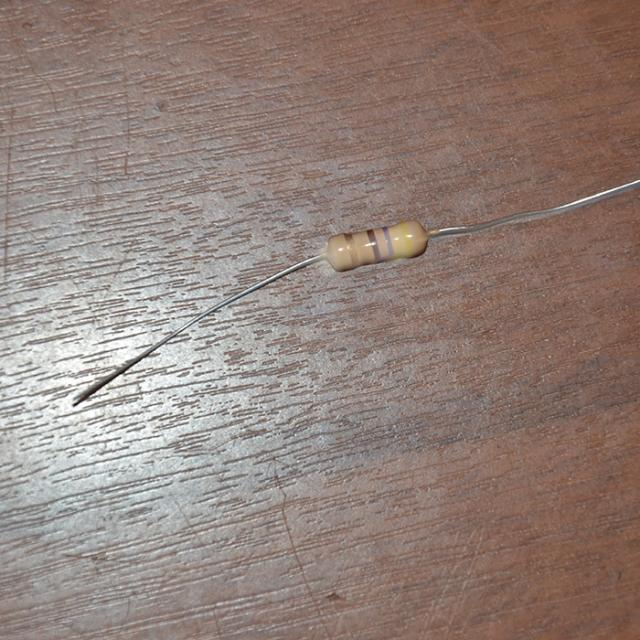brown: (368, 227, 380, 259)
gold: (345, 230, 358, 266)
resistor: (311, 210, 443, 283)
violet: (382, 226, 394, 257)
yellow: (401, 222, 411, 253)
